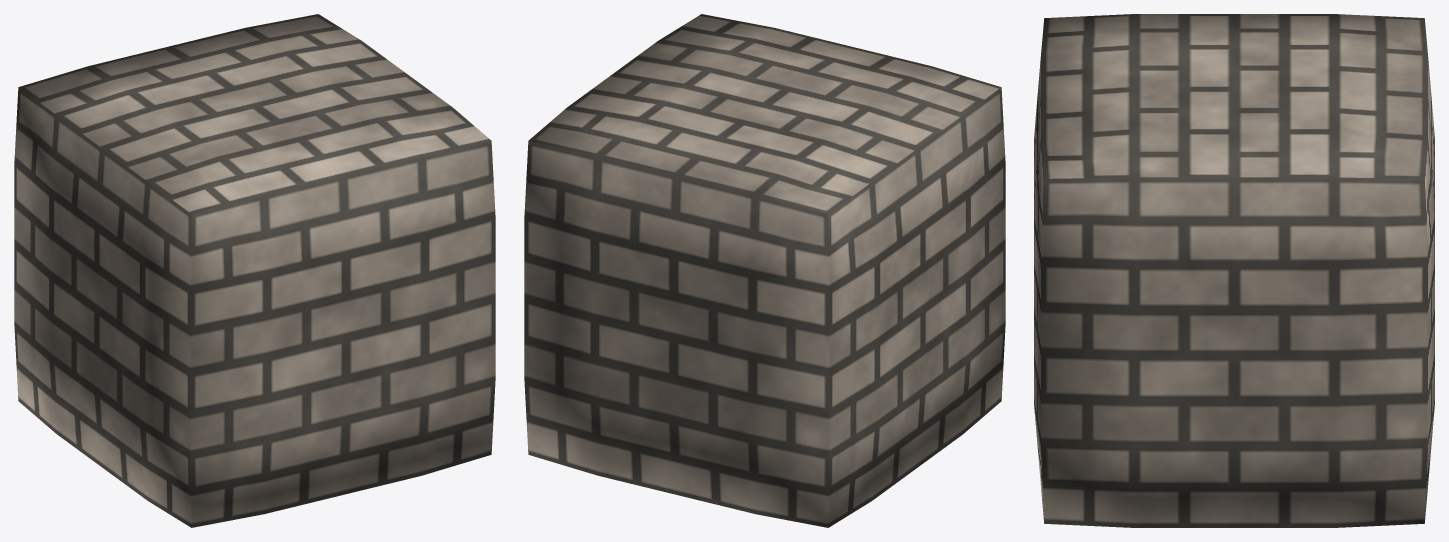
The model's file is Wall.gltf.
The picture shows the model from 3 angles, left to right: view 1: azimuth 30°, elevation 25°; view 2: azimuth 150°, elevation 25°; view 3: azimuth 270°, elevation 25°; orthographic projection. The views are drawn at different scales.
Visible parts, largest first — view 1: Wall; view 2: Wall; view 3: Wall.
Part boxes in pixels (box(x1,y1,x2,y2)): Wall: box(14, 14, 495, 527); Wall: box(524, 14, 1005, 527); Wall: box(1034, 14, 1434, 527).
Size of the model in its own units: 1 by 1 by 1.
1 material, 1 textured.
